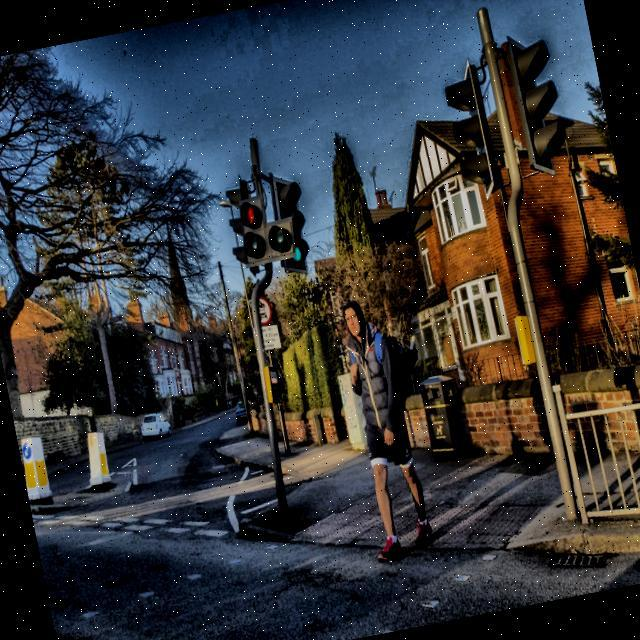red_light: (245, 204, 256, 227)
